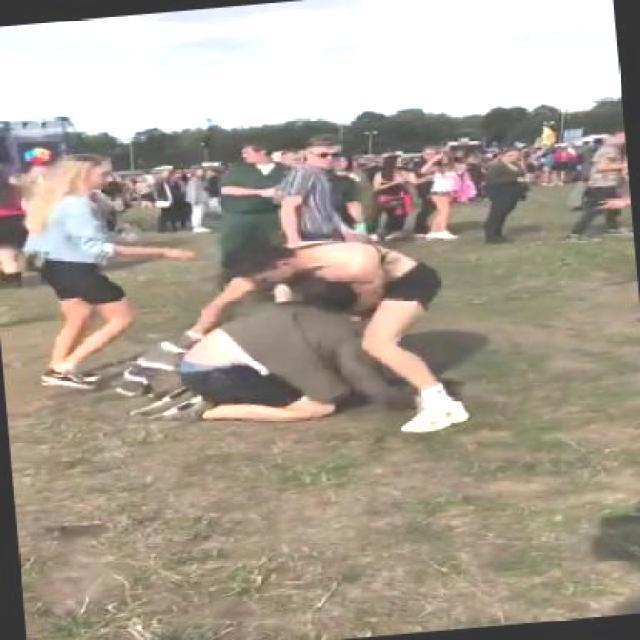fight: (114, 228, 470, 458)
non-fight: (7, 148, 148, 389)
